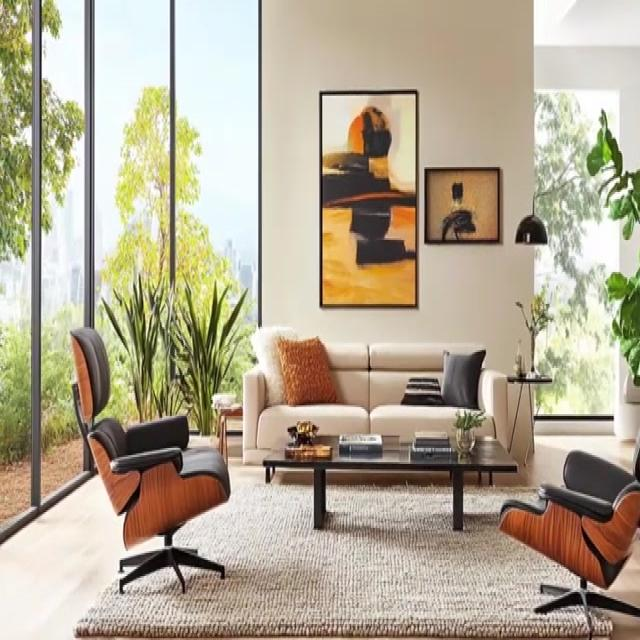obstacle: (69, 325, 230, 594), (241, 334, 509, 471), (498, 412, 639, 638), (262, 434, 518, 530), (506, 372, 552, 464)
